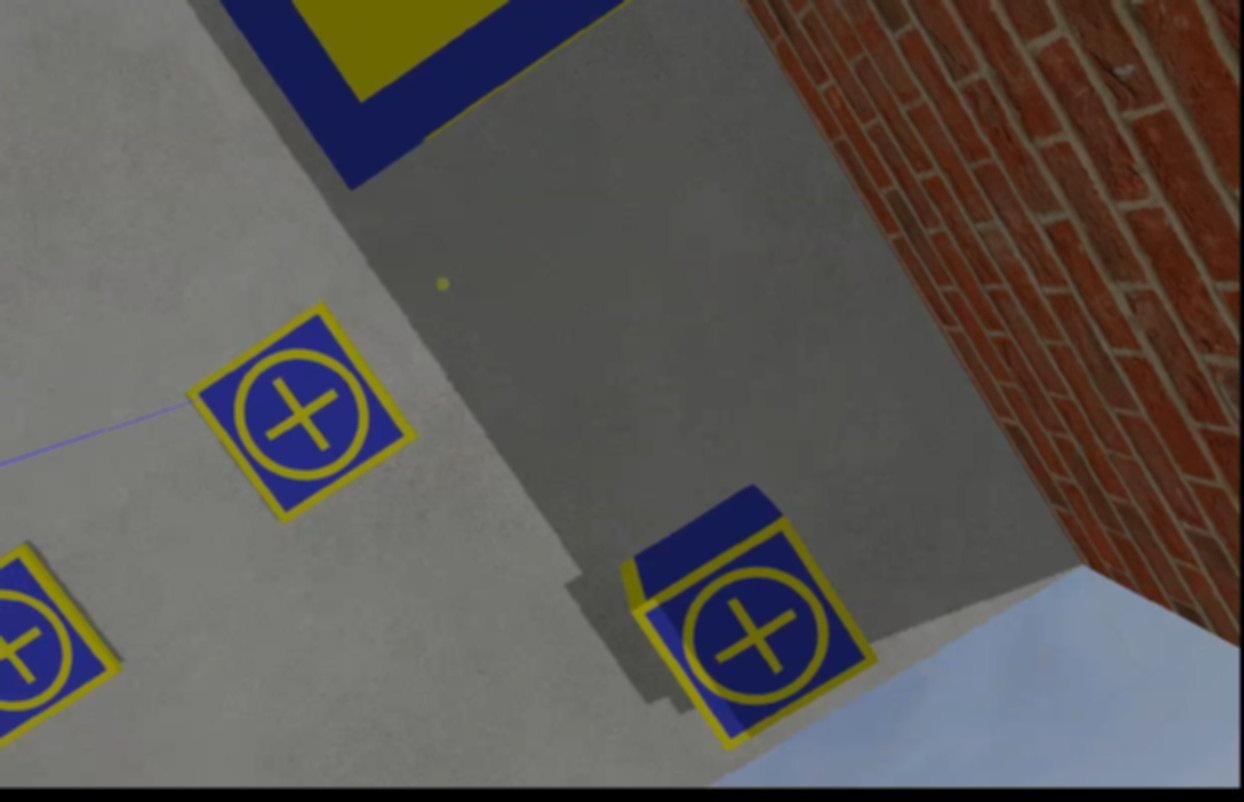large_base: (209, 1, 639, 181)
small_base: (637, 521, 877, 749), (190, 306, 419, 528), (0, 545, 122, 742)
